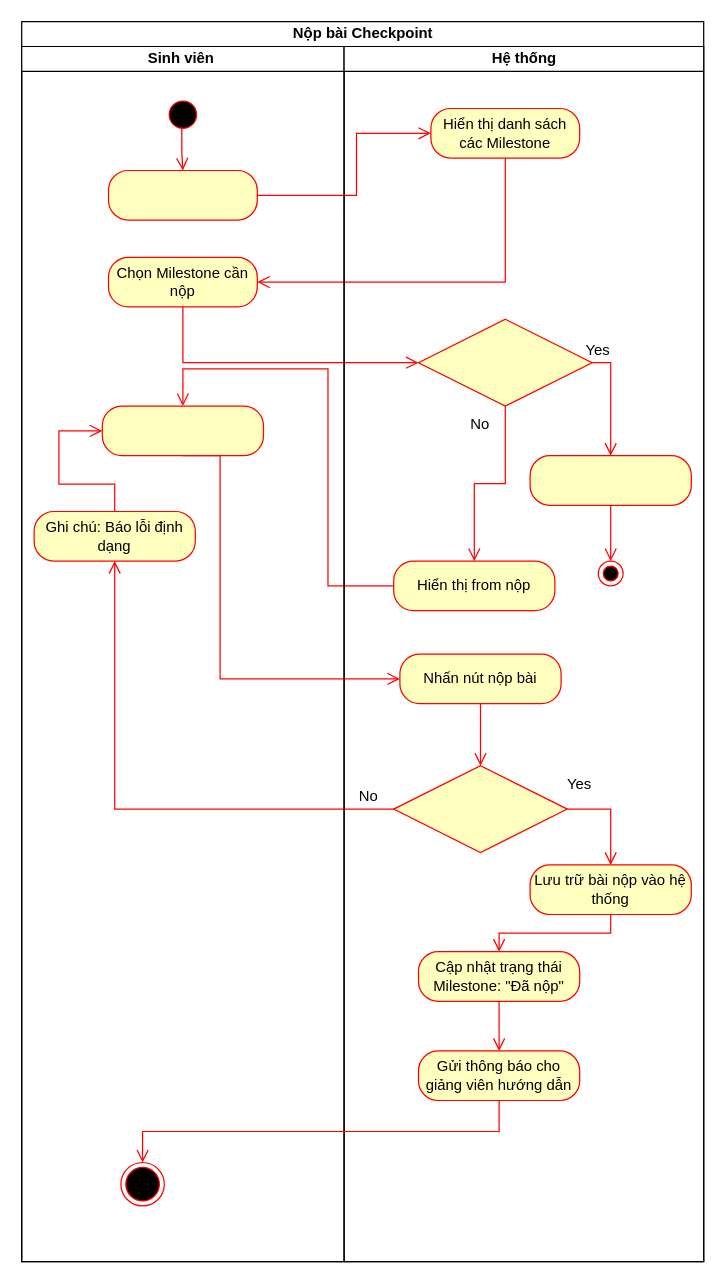
Some shapes in this 725 by 1283 pixel diagram are drawn without their labels. Here are the shapes that lost their labels. From the top down, the centre of each, then its label:
(182,194): Chọn dự án đang tham gia
(504,362): Đã quá hạn nộp bài
(182,430): Tải file hoặc dán link báo cáo
(610,479): Báo lỗi: Đã khóa cổng nộp
(479,808): File/Link hợp lệ?
